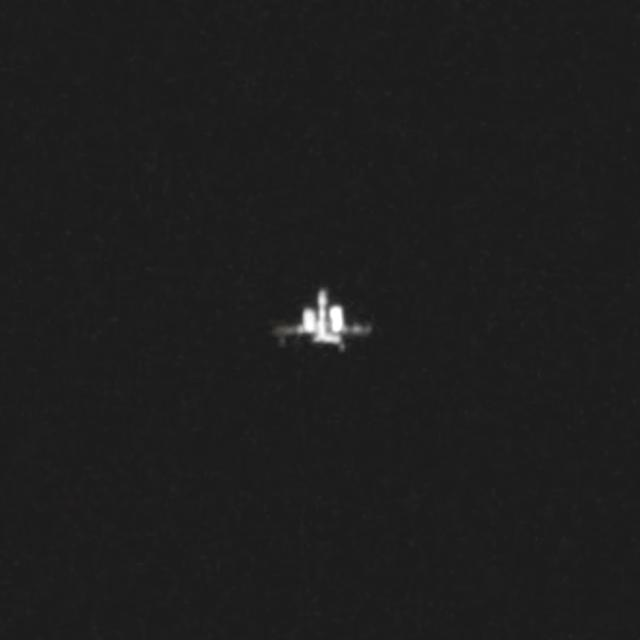satellite: (272, 288, 371, 349)
